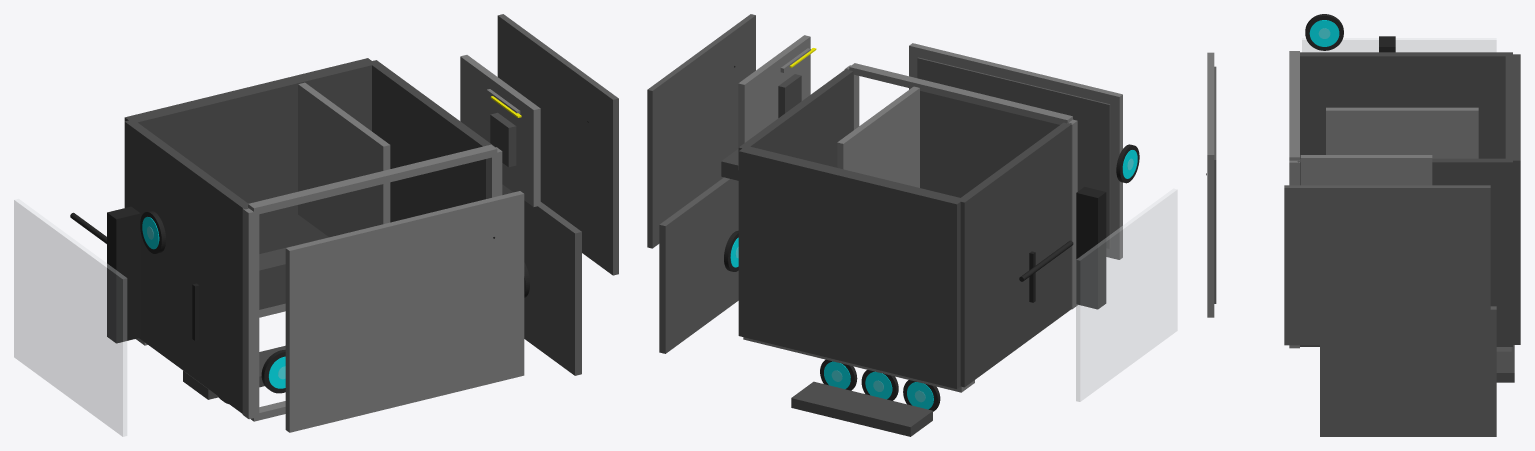
3 renders of one model, left to right at view 1: azimuth 30°, elevation 25°; view 2: azimuth 150°, elevation 25°; view 3: azimuth 270°, elevation 25°, orthographic. The views are drawn at different scales.
Visible parts, largest first — view 1: top_filter_frame, rear_frame, white_tinted_glass_panel, bottom_base, right_rear_panel, front_frame, motherboard_tray, curved_front_mesh, exploded_motherboard, radiator_block, back_top_rail, left_top_rail (+4 smaller); view 2: bottom_base, rear_frame, floating_top_filter, white_tinted_glass_panel, right_rear_panel, curved_front_mesh, front_frame, motherboard_tray, top_filter_frame, bottom_fan_panel, exploded_motherboard, radiator_block (+7 smaller); view 3: right_rear_panel, curved_front_mesh, rear_frame, motherboard_tray, front_frame, exploded_motherboard, bottom_base, white_tinted_glass_panel, top_filter_frame, left_top_rail, floating_top_filter, single_rear_rgb_fan_ring (+3 smaller).
Part boxes in pixels (x1,y1,x2,y2): top_filter_frame: (285, 191, 524, 432); rear_frame: (124, 120, 248, 413); white_tinted_glass_panel: (14, 199, 126, 436); bottom_base: (124, 58, 375, 253); right_rear_panel: (497, 14, 618, 275); front_frame: (369, 60, 496, 222); motherboard_tray: (298, 82, 390, 237); curved_front_mesh: (524, 200, 581, 375); exploded_motherboard: (460, 55, 540, 206); radiator_block: (107, 206, 140, 343); back_top_rail: (242, 208, 259, 419); left_top_rail: (248, 144, 497, 215); bottom_base: (738, 145, 963, 388); rear_frame: (957, 122, 1071, 387); floating_top_filter: (917, 57, 1110, 248); white_tinted_glass_panel: (1076, 188, 1177, 401); right_rear_panel: (647, 14, 755, 248); curved_front_mesh: (659, 177, 738, 353); front_frame: (738, 68, 853, 167); motherboard_tray: (837, 86, 919, 187); top_filter_frame: (909, 43, 1122, 259); bottom_fan_panel: (791, 381, 932, 436); exploded_motherboard: (738, 35, 810, 169); radiator_block: (1076, 186, 1106, 309); right_rear_panel: (1284, 185, 1490, 345); curved_front_mesh: (1320, 306, 1496, 436); rear_frame: (1300, 52, 1512, 158); motherboard_tray: (1326, 107, 1478, 158); front_frame: (1297, 158, 1512, 346); exploded_motherboard: (1300, 155, 1432, 185); bottom_base: (1505, 54, 1520, 344); white_tinted_glass_panel: (1302, 38, 1496, 51); top_filter_frame: (1207, 52, 1214, 317); left_top_rail: (1289, 51, 1299, 160); floating_top_filter: (1214, 66, 1216, 303); single_rear_rgb_fan_ring: (1309, 20, 1339, 46).
Bounding box in the file's own units: 8.39 × 5.04 × 5.25.
